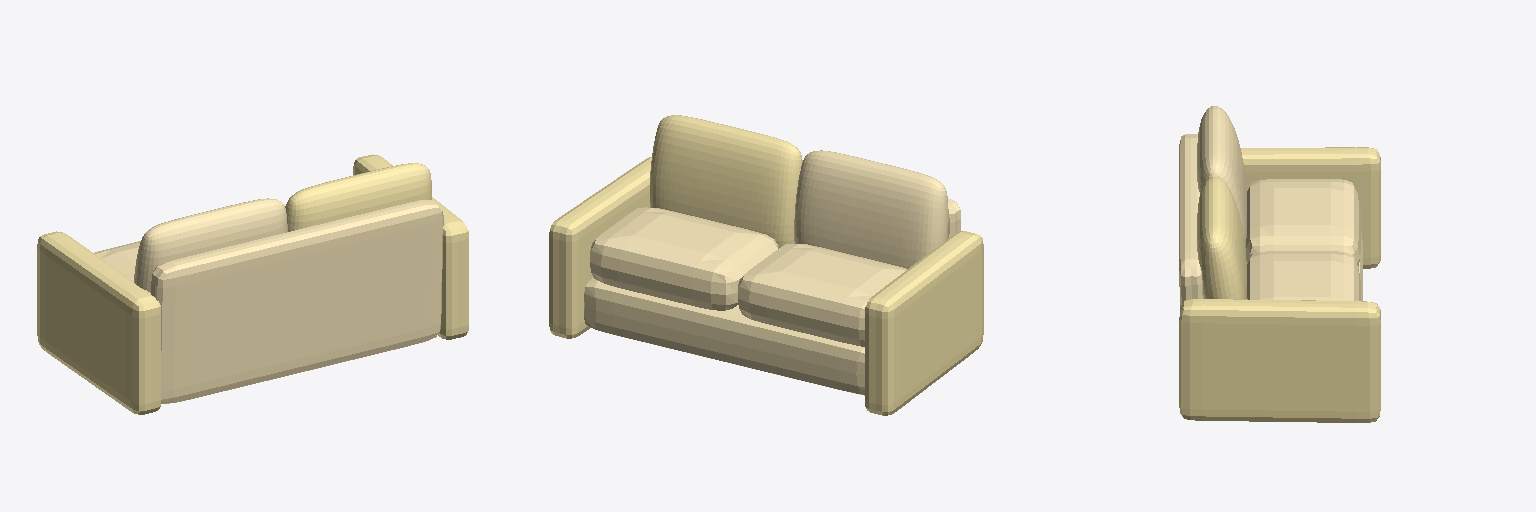
File: couch.obj
The picture shows the model from 3 angles: view 1: azimuth 30°, elevation 25°; view 2: azimuth 150°, elevation 25°; view 3: azimuth 270°, elevation 25°; orthographic projection.
Parts seen in each view (by area): view 1: Cube.001_Cube.008; view 2: Cube.001_Cube.008; view 3: Cube.001_Cube.008.
Boxes of the visible parts, x1=… form: Cube.001_Cube.008: x1=37, y1=154, x2=468, y2=414; Cube.001_Cube.008: x1=549, y1=115, x2=983, y2=415; Cube.001_Cube.008: x1=1179, y1=106, x2=1380, y2=422.
Size of the model in its own units: 5.05 by 2.45 by 2.58.